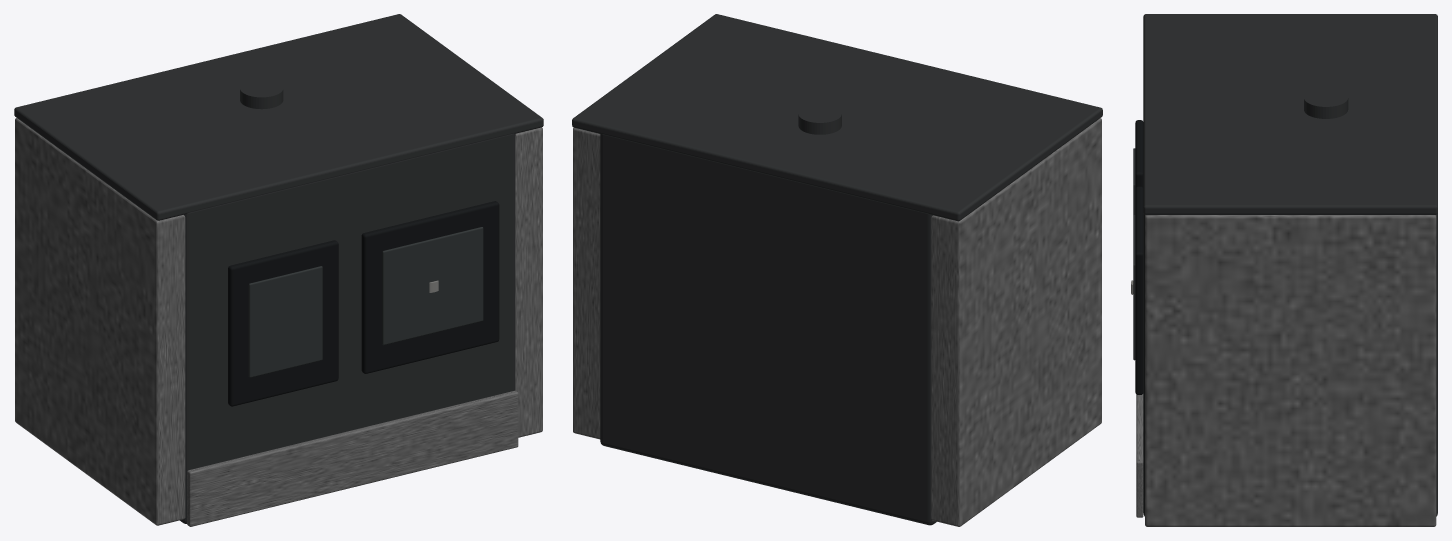
Rendered from nordica-termorosa-dsa16-petra-pietra.glb.
3 renders of one model, left to right at view 1: azimuth 30°, elevation 25°; view 2: azimuth 150°, elevation 25°; view 3: azimuth 270°, elevation 25°, orthographic. The views are drawn at different scales.
Parts seen in each view (by area): view 1: Coperchio.004, Rivestimento laterale.008, Corpo.004, Pannello inferiore.002, Sportello forno.002, Vetro forno.002, Porta focolare.002, Rivestimento laterale.009, Vetro focolare.002, Scarico fumi.004; view 2: Corpo.004, Coperchio.004, Rivestimento laterale.008, Rivestimento laterale.009, Scarico fumi.004; view 3: Rivestimento laterale.009, Coperchio.004, Sportello forno.002, Scarico fumi.004, Corpo.004, Pannello inferiore.002, Porta focolare.002, Vetro forno.002.
Boxes of the visible parts, x1,y1,x2,y2 form: Coperchio.004: [14, 14, 543, 220]; Rivestimento laterale.008: [15, 118, 185, 525]; Corpo.004: [180, 133, 515, 523]; Pannello inferiore.002: [187, 390, 518, 526]; Sportello forno.002: [361, 201, 499, 373]; Vetro forno.002: [382, 227, 483, 345]; Porta focolare.002: [228, 240, 338, 406]; Rivestimento laterale.009: [515, 127, 542, 437]; Vetro focolare.002: [248, 266, 322, 377]; Scarico fumi.004: [240, 79, 283, 109]; Corpo.004: [600, 134, 936, 525]; Coperchio.004: [572, 14, 1102, 221]; Rivestimento laterale.008: [931, 118, 1101, 526]; Rivestimento laterale.009: [573, 127, 600, 439]; Scarico fumi.004: [798, 104, 841, 134]; Rivestimento laterale.009: [1145, 215, 1436, 526]; Coperchio.004: [1143, 14, 1437, 214]; Sportello forno.002: [1135, 186, 1143, 394]; Scarico fumi.004: [1304, 88, 1348, 118]; Corpo.004: [1143, 213, 1437, 516]; Pannello inferiore.002: [1136, 394, 1143, 517]; Porta focolare.002: [1135, 120, 1143, 188]; Vetro forno.002: [1133, 215, 1135, 360].
Bounding box in the file's own units: 1.03 × 0.845 × 0.692.
Materials: 5 (1 with a texture image).
